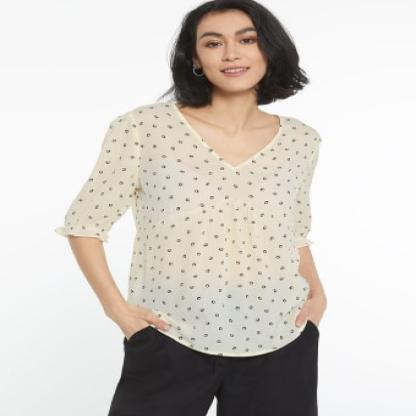dress: (62, 99, 329, 356)
